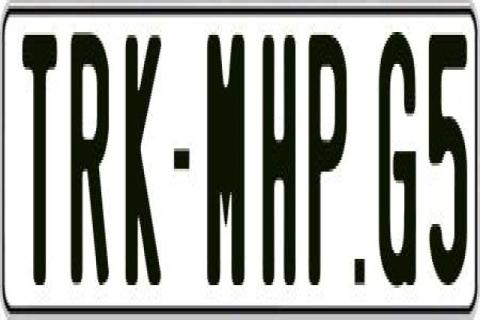0: (427, 27, 462, 286)
G: (377, 32, 419, 291)
H: (262, 27, 299, 280)
K: (122, 32, 159, 282)
M: (207, 26, 247, 288)
P: (310, 35, 347, 294)
R: (70, 26, 110, 291)
T: (22, 29, 60, 297)
